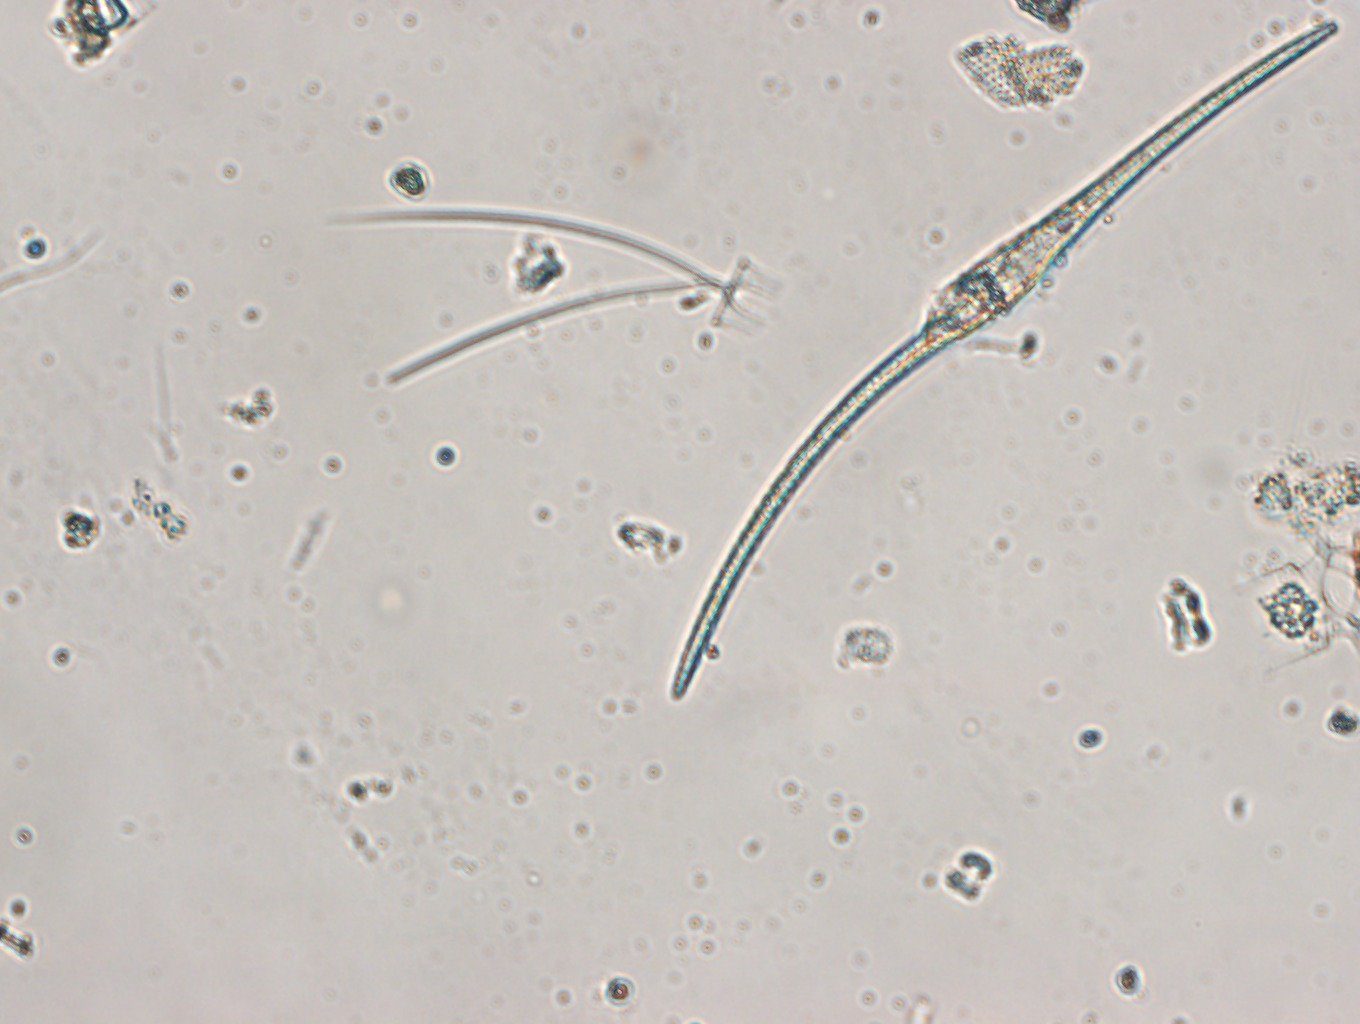ceratium fusus: (664, 9, 1341, 714)
